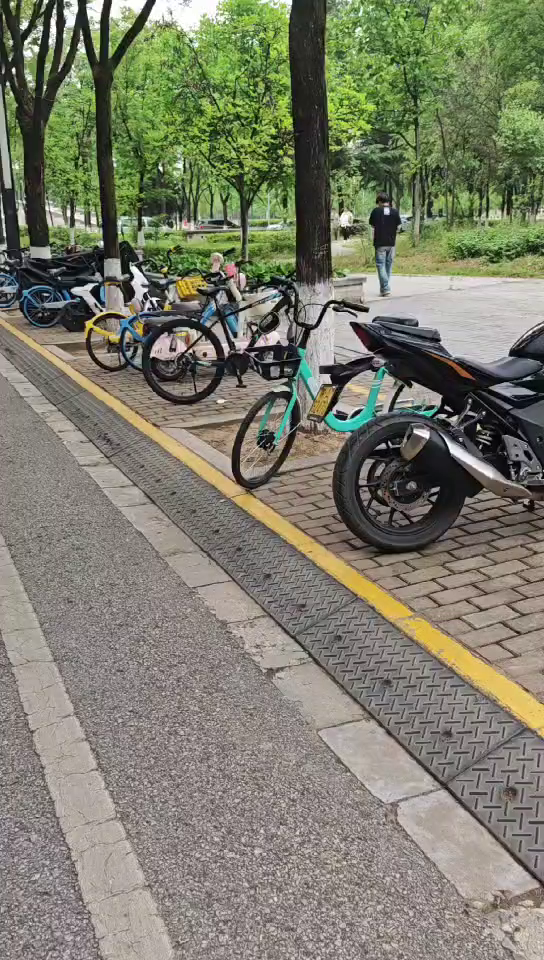others: (348, 304, 544, 551), (144, 276, 326, 396)
shared_bike_haluo: (124, 282, 245, 367)
shared_bike_meituan: (82, 254, 218, 368)
shared_bike_qingcong: (231, 276, 451, 480)
